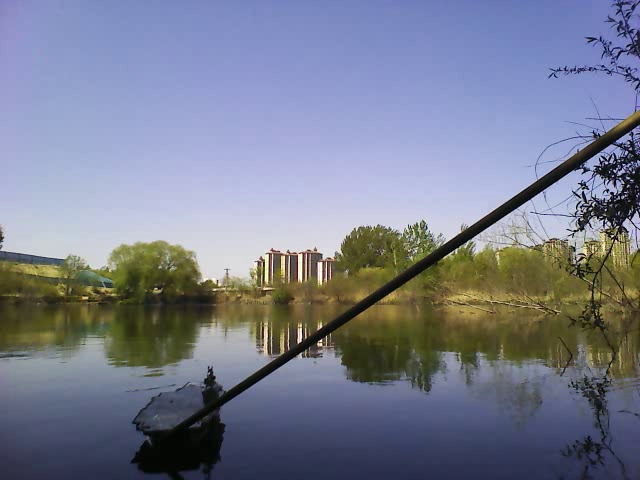aircraft_carrier: (133, 369, 229, 454)
